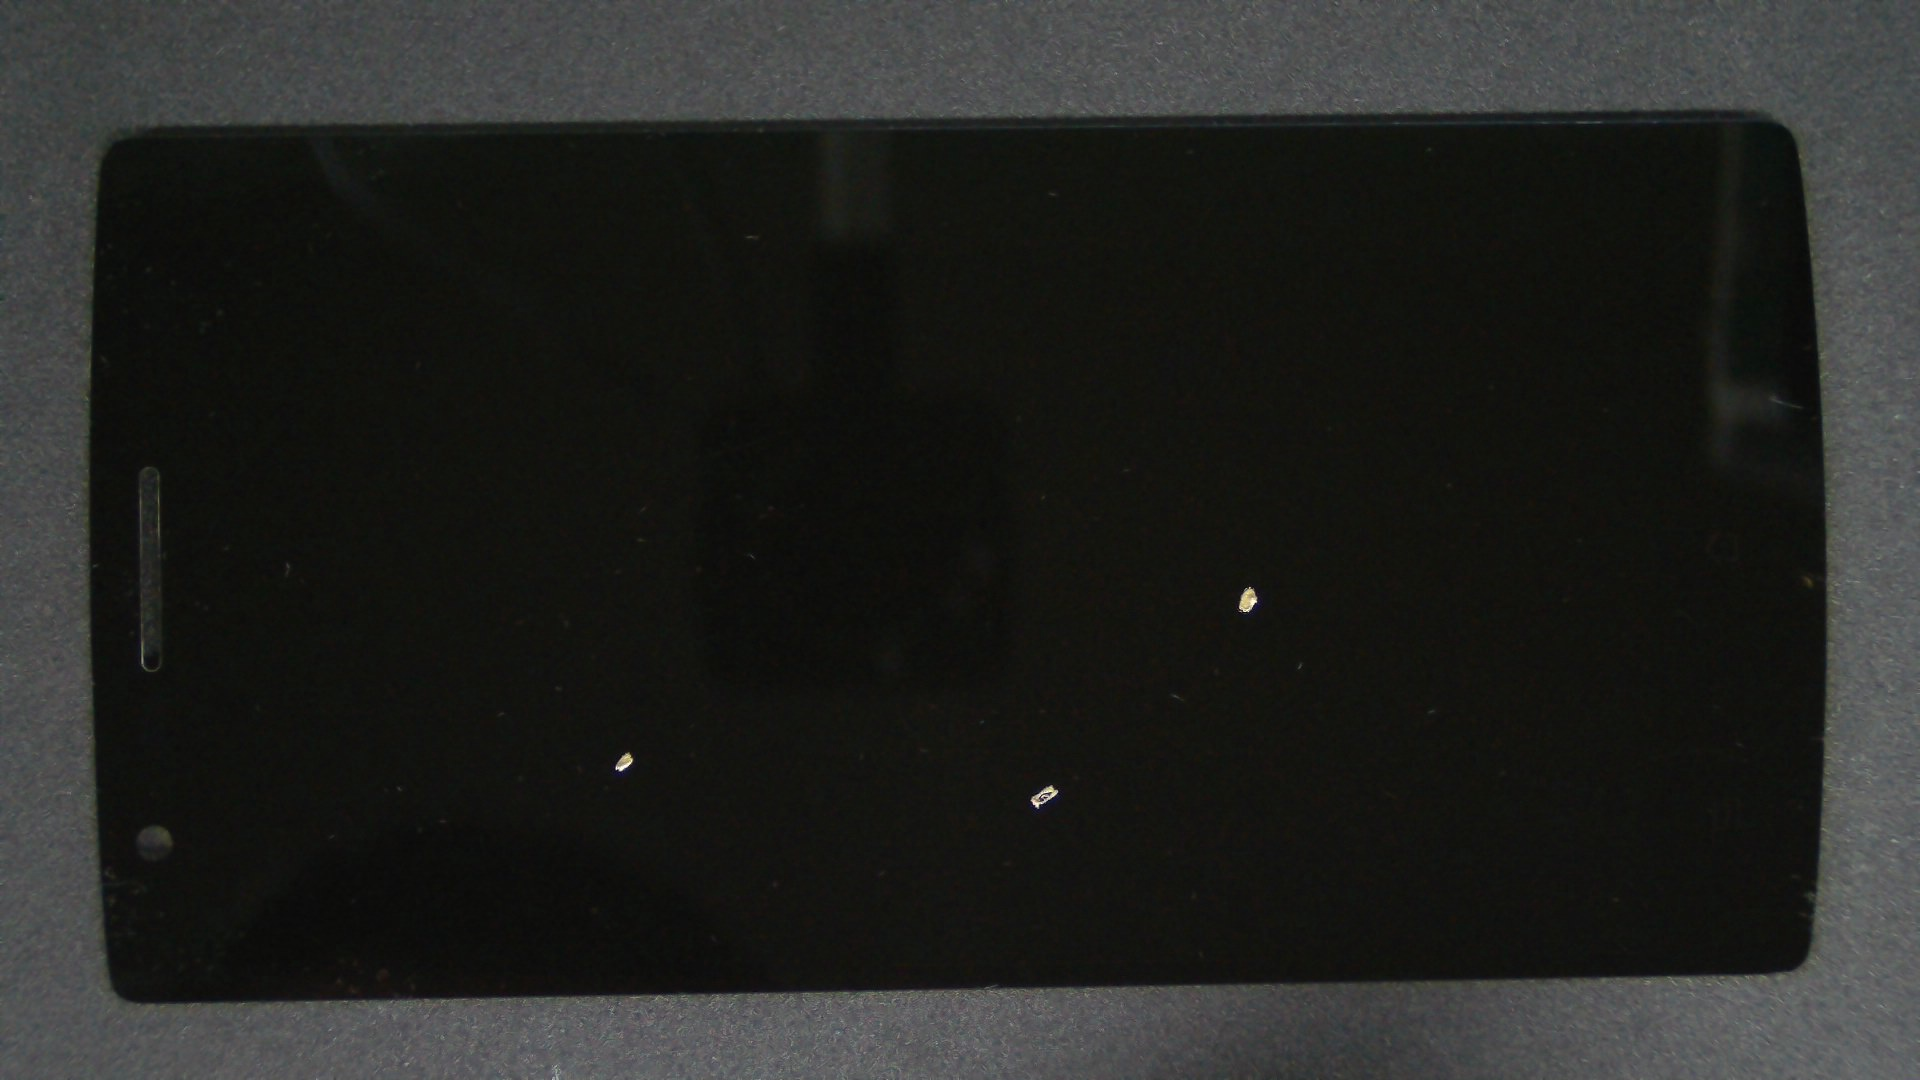oil: (625, 293, 1871, 880), (526, 392, 1575, 1080), (314, 375, 939, 1080)
